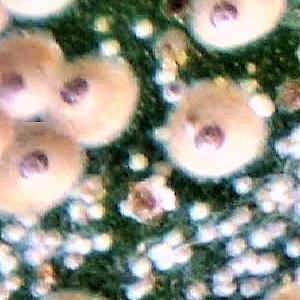Femea: (176, 104, 254, 166), (0, 39, 54, 121), (54, 64, 120, 126), (5, 135, 64, 203), (189, 0, 270, 44), (163, 79, 181, 101)
Linfa: (1, 224, 29, 246), (247, 91, 273, 114), (247, 229, 272, 250), (72, 183, 97, 203), (166, 246, 195, 263), (100, 37, 121, 59), (93, 231, 114, 252), (129, 258, 152, 277), (0, 253, 17, 278), (224, 236, 244, 257), (86, 202, 108, 221), (219, 214, 241, 233), (67, 237, 92, 253), (132, 16, 151, 37), (197, 220, 216, 241), (68, 251, 87, 272), (127, 150, 144, 173), (228, 177, 251, 194), (234, 205, 253, 224), (69, 204, 86, 225), (285, 234, 299, 259), (191, 202, 209, 221), (164, 228, 182, 247), (156, 253, 174, 272), (23, 249, 45, 264), (91, 16, 110, 33), (257, 255, 274, 274), (145, 244, 168, 258), (286, 141, 299, 162), (207, 270, 229, 282), (257, 198, 274, 210)
